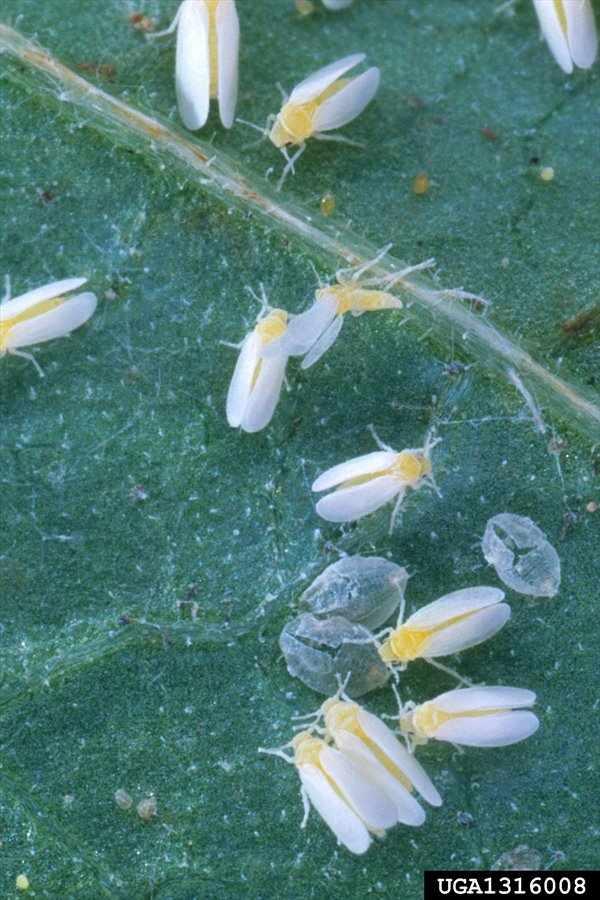Tobacco Whitefly: (298, 422, 474, 564), (268, 677, 415, 834), (398, 670, 557, 778), (376, 562, 513, 682), (223, 248, 293, 454), (280, 45, 385, 182), (191, 1, 271, 162), (1, 286, 104, 403)
